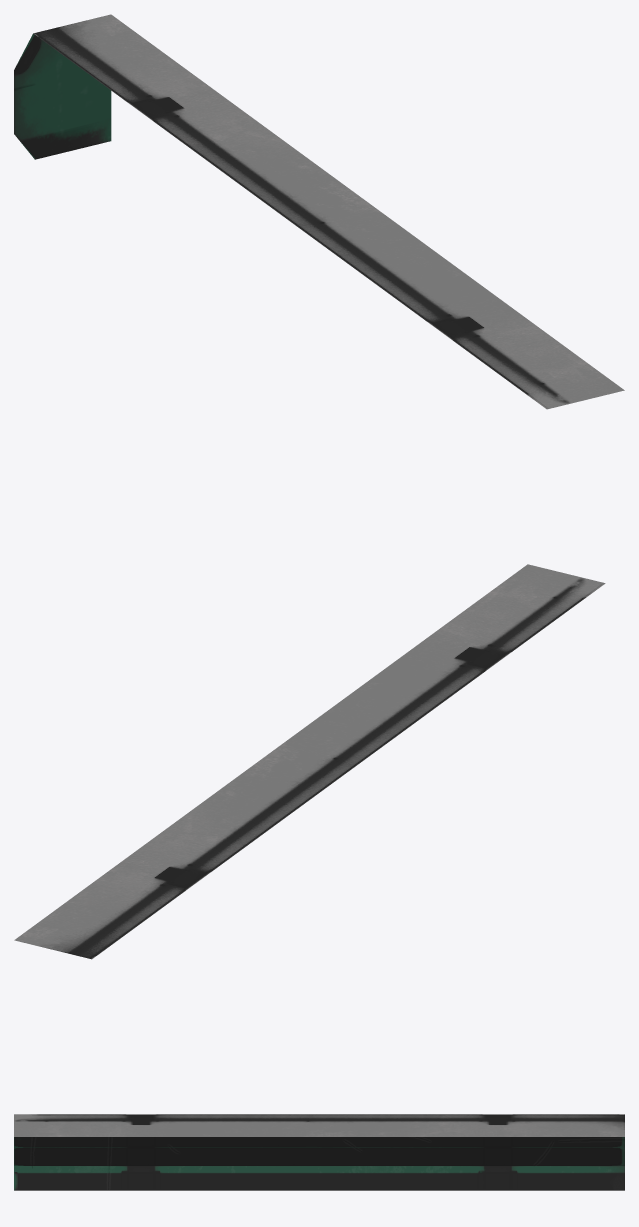
Rendered from 1 kabe.fbx.
3 renders of one model, top to bottom at view 1: azimuth 30°, elevation 25°; view 2: azimuth 150°, elevation 25°; view 3: azimuth 270°, elevation 25°, orthographic. The views are drawn at different scales.
Parts seen in each view (by area): view 1: polySurface353, polySurface358; view 2: polySurface353; view 3: polySurface358, polySurface353.
Part boxes in pixels (x1,y1,x2,y2): polySurface353: (33,14,624,409); polySurface358: (14,33,111,159); polySurface353: (14,564,605,959); polySurface358: (14,1137,624,1190); polySurface353: (14,1114,624,1136).
Bounding box in the file's own units: 14.02 × 17.47 × 128.
1 material, 1 textured.
